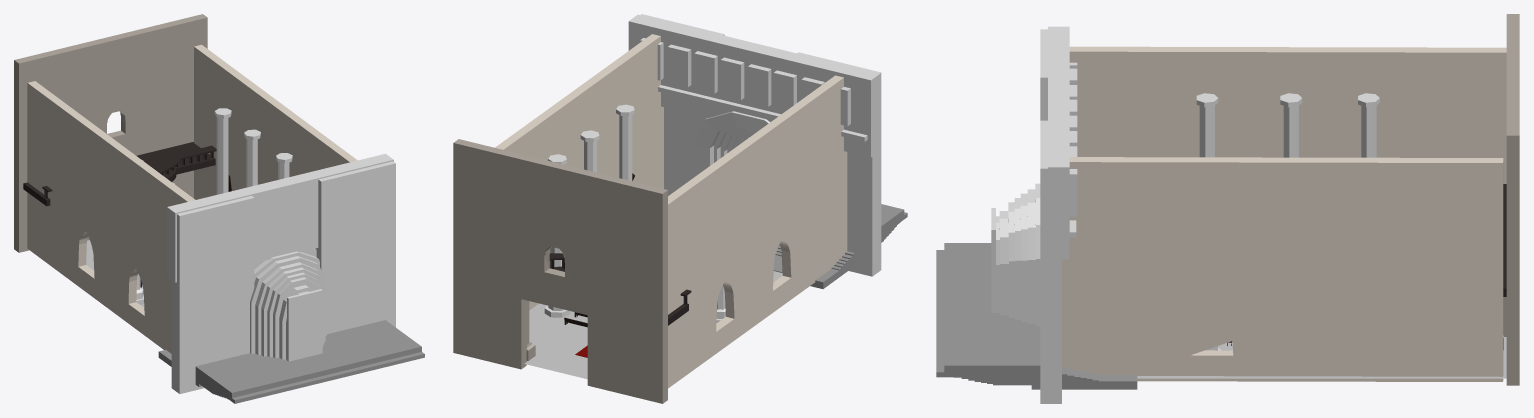
Rendered from EscenaIglesia3.fbx.
3 views of the same model, side by side, from view 1: azimuth 30°, elevation 25°; view 2: azimuth 150°, elevation 25°; view 3: azimuth 270°, elevation 25° (orthographic). The views are drawn at different scales.
Parts seen in each view (by area): view 1: Pared principal, Pared 1, Entrada.002, Pared 2, Plataforma, Balcón, Cylinder.004, Cylinder.002; view 2: Entrada.002, Pared 1, Pared principal, Pared 2, Píso general, Plataforma, Cylinder.003, Cylinder.002, Balcón, Cylinder.004; view 3: Pared 2, Pared 1, Pared principal, Plataforma, Entrada.002, Píso general, Cylinder.007, Cylinder.006, Cylinder.005.
Boxes of the visible parts, x1,y1,x2,y2 form: Pared principal: (167,153,395,393); Pared 1: (27,81,195,353); Entrada.002: (14,14,207,252); Pared 2: (194,44,357,199); Plataforma: (158,320,424,403); Balcón: (23,142,216,206); Cylinder.004: (214,108,231,194); Cylinder.002: (244,129,260,187); Entrada.002: (453,139,667,403); Pared 1: (668,75,847,388); Pared principal: (628,14,881,276); Pared 2: (495,34,663,310); Píso general: (524,271,782,379); Plataforma: (773,204,907,288); Cylinder.003: (616,104,634,180); Cylinder.002: (580,130,599,172); Balcón: (549,253,691,325); Cylinder.004: (544,154,570,317); Pared 2: (1062,157,1503,381); Pared 1: (1069,46,1506,183); Pared principal: (991,26,1077,403); Plataforma: (936,243,1137,389); Entrada.002: (1503,14,1519,385); Píso general: (1137,337,1506,378); Cylinder.007: (1280,93,1302,157); Cylinder.006: (1196,93,1218,157); Cylinder.005: (1358,93,1379,157).
Bounding box in the file's own units: 3071 × 2653 × 5373.
